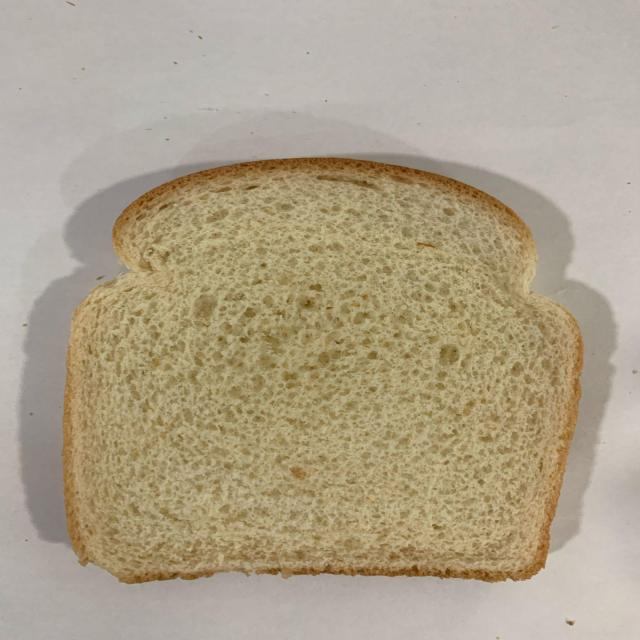pan: (62, 158, 585, 582)
